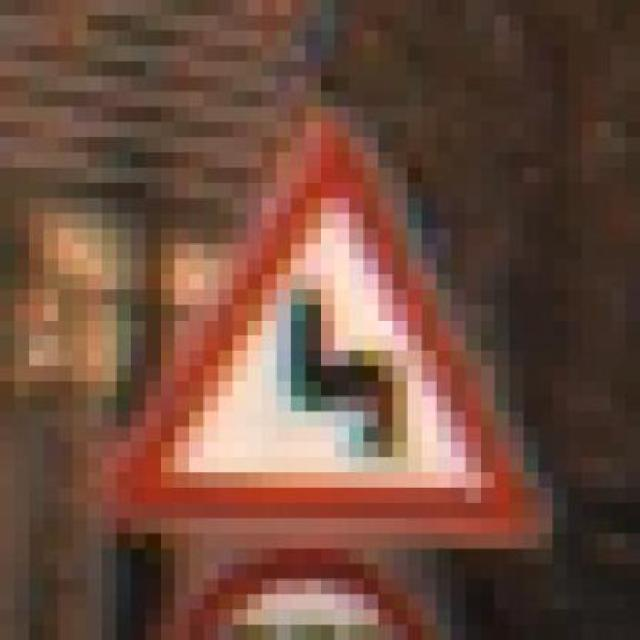Left Zig Zag Traffic: (101, 76, 582, 549)
